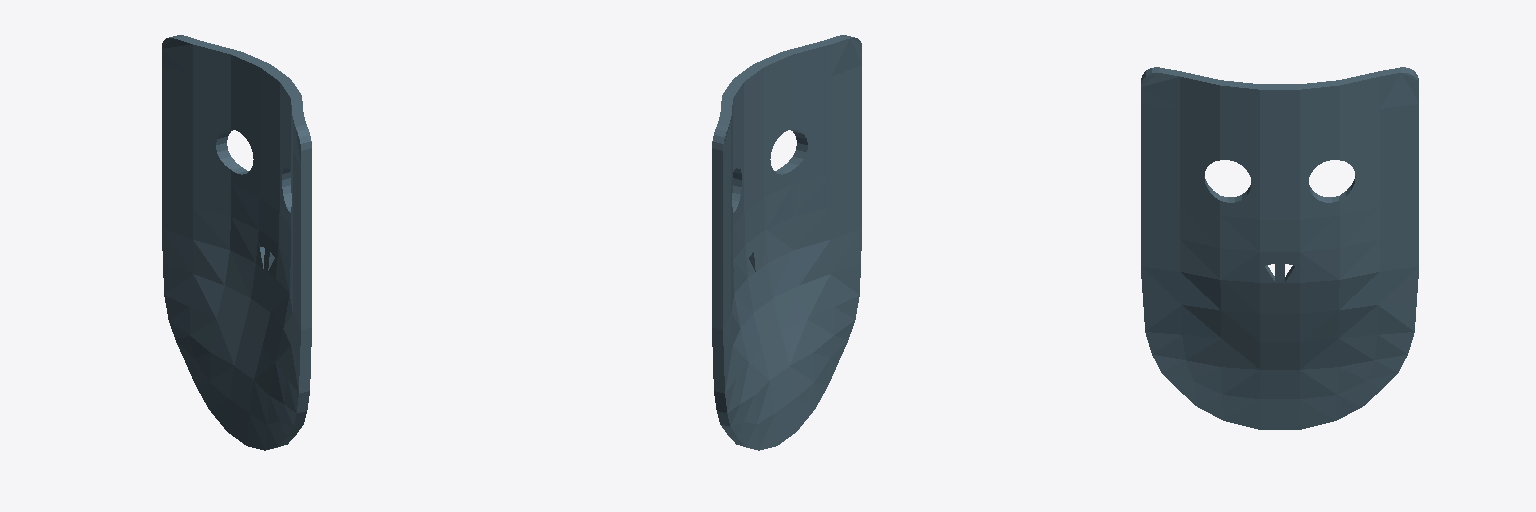
Rendered from mask.obj.
The picture shows the model from 3 angles: view 1: azimuth 30°, elevation 25°; view 2: azimuth 150°, elevation 25°; view 3: azimuth 270°, elevation 25°; orthographic projection.
Size of the model in its own units: 1.21 by 8.32 by 5.89.